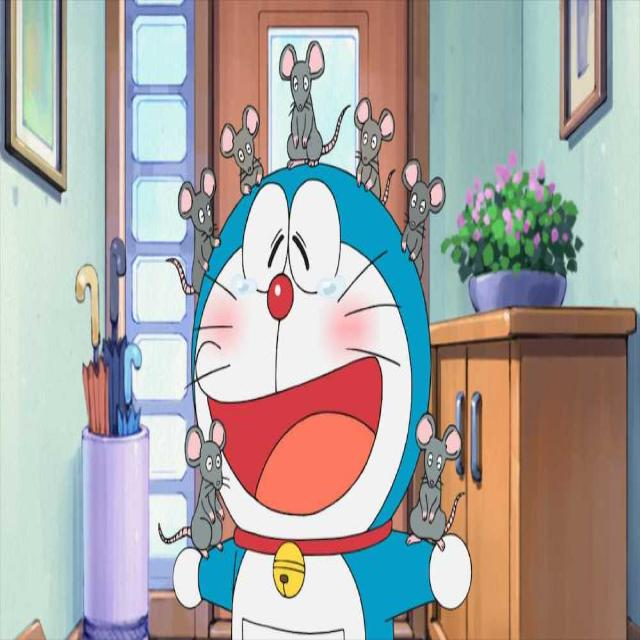doraemon: (171, 149, 455, 625)
